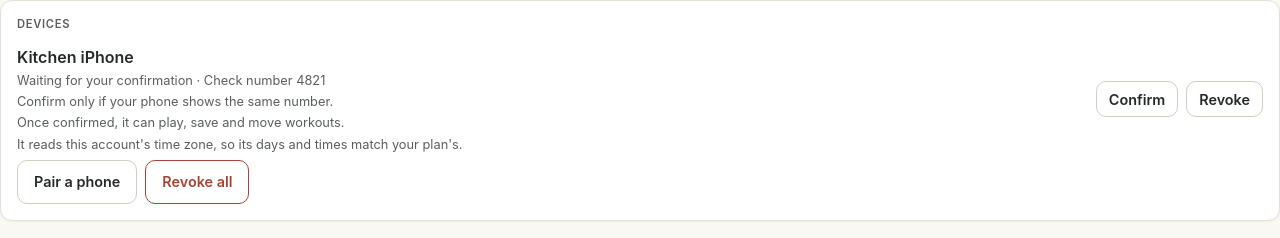
Test: Settings → Devices › a pending phone shows its label and check number, with Confirm, which sends that number; then it is active
This screenshot has width=1280, height=238.
Step 1. Click the button "Confirm" → (1137, 99), box 1096,81 -> 1178,117
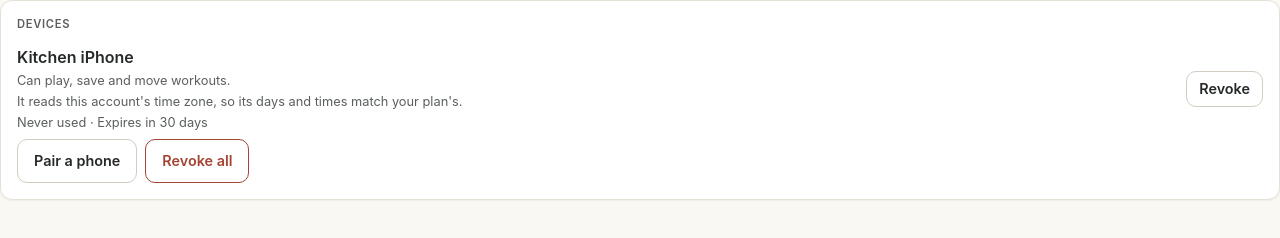
Expected: the button "Revoke" is shown, 1186,71 -> 1263,107
Expected: the text with class "setting-row" no longer shows "4821"
